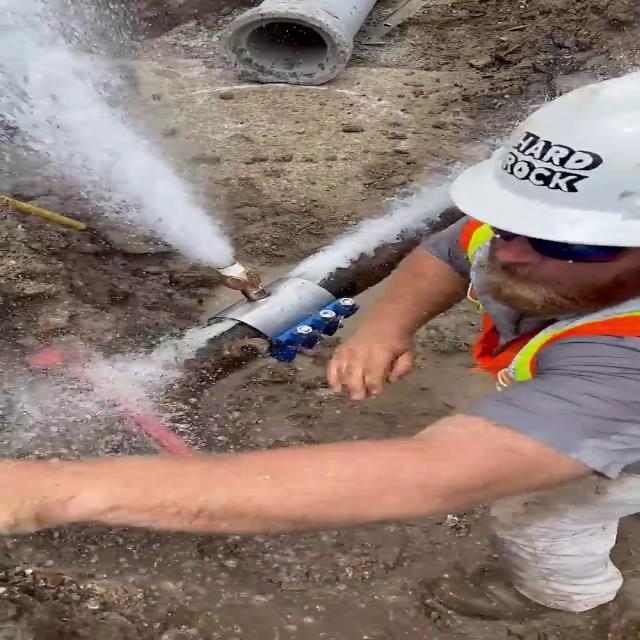leak: (284, 63, 640, 285), (10, 314, 241, 466)
